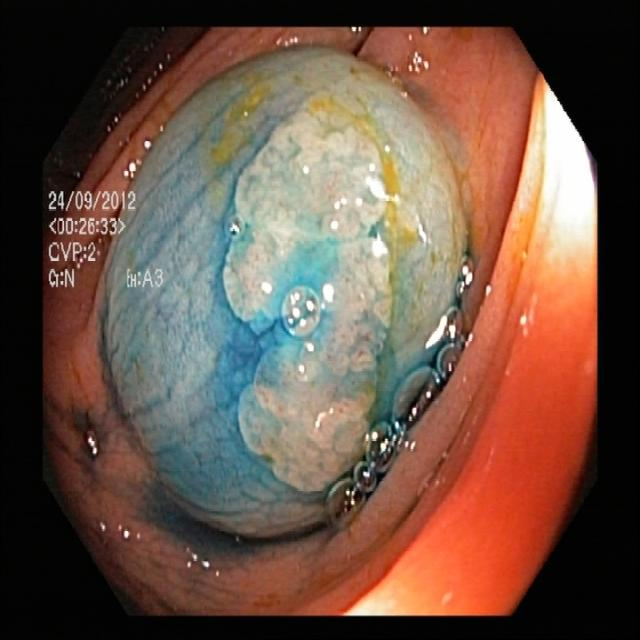dyed-lifted-polyps: (201, 92, 413, 515)
